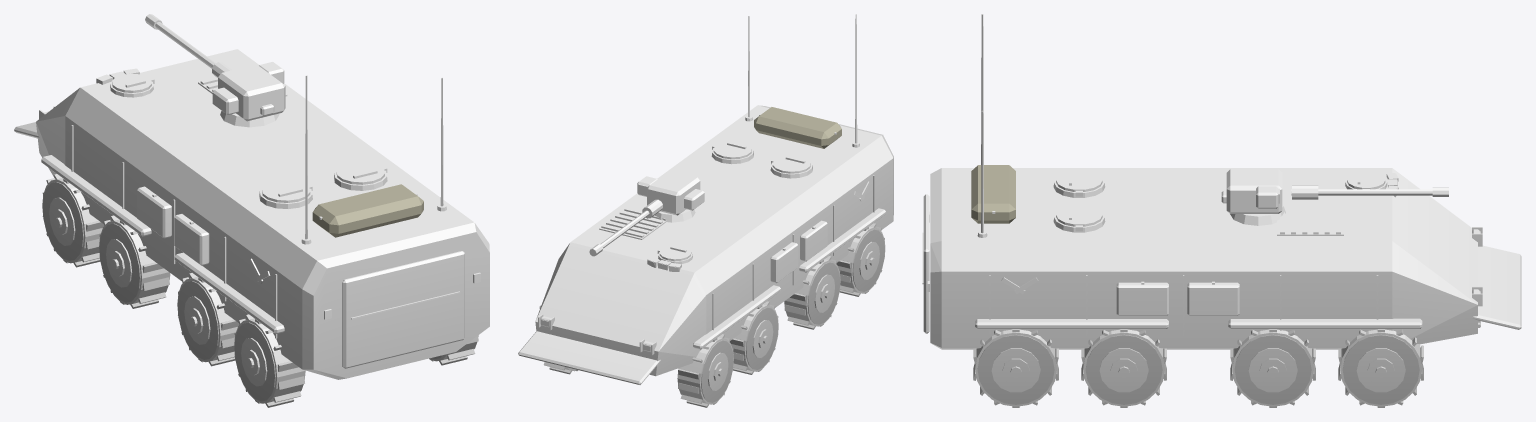
Rendered from apc_blue.glb.
3 views of the same model, side by side, from view 1: azimuth 30°, elevation 25°; view 2: azimuth 150°, elevation 25°; view 3: azimuth 270°, elevation 25° (orthographic). The views are drawn at different scales.
Visible parts, largest first — view 1: body, wheel_6, wheel_2, turret, wheel_0, wheel_4, barrel, wheel_7; view 2: body, wheel_0, wheel_4, wheel_2, wheel_6, turret, barrel; view 3: body, wheel_1, wheel_5, wheel_3, wheel_7, turret, barrel.
Part boxes in pixels (x1,y1,x2,y2): body: [14, 49, 489, 379]; wheel_6: [234, 314, 305, 407]; wheel_2: [99, 215, 170, 308]; turret: [212, 62, 285, 127]; wheel_0: [42, 174, 104, 267]; wheel_4: [177, 273, 239, 366]; barrel: [145, 14, 232, 77]; wheel_7: [429, 335, 478, 365]; body: [518, 14, 893, 384]; wheel_0: [677, 334, 733, 407]; wheel_4: [784, 256, 840, 329]; wheel_2: [730, 301, 778, 374]; wheel_6: [836, 223, 885, 296]; turret: [637, 170, 704, 222]; barrel: [589, 199, 662, 256]; body: [922, 14, 1521, 349]; wheel_1: [1338, 329, 1423, 407]; wheel_5: [1081, 329, 1166, 407]; wheel_3: [1230, 329, 1315, 407]; wheel_7: [973, 329, 1058, 407]; turret: [1221, 169, 1285, 225]; barrel: [1291, 185, 1448, 199].
Bounding box in the file's own units: 3.17 × 4.68 × 8.05.
